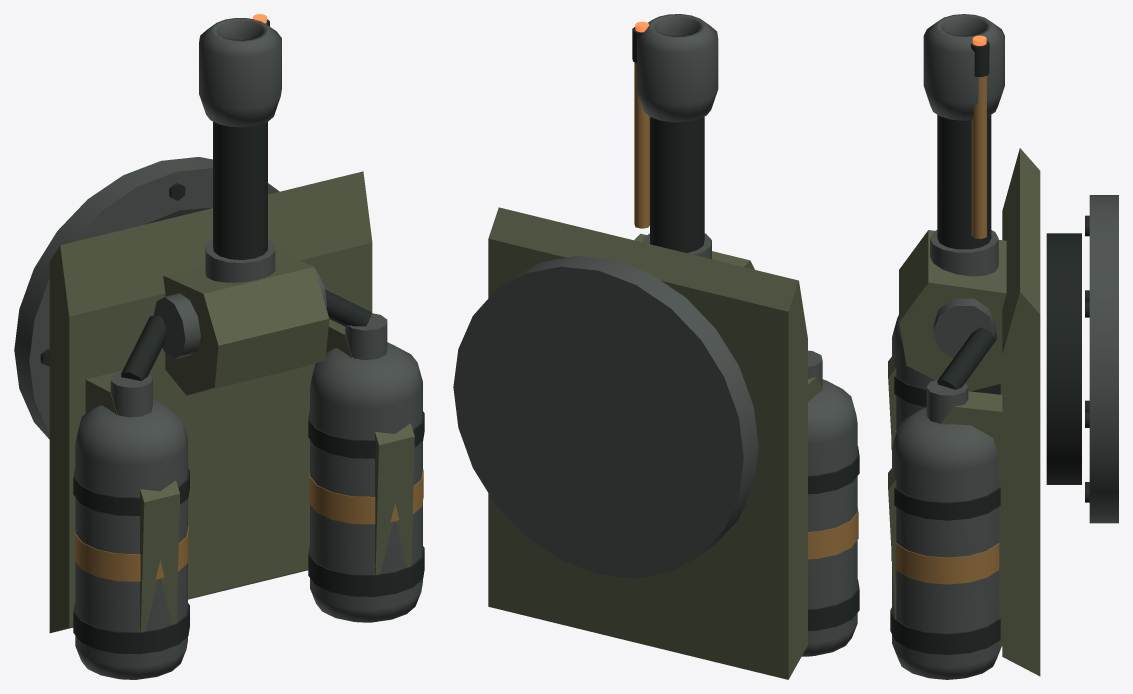
The model's file is field-flamer.glb.
3 views of the same model, side by side, from view 1: azimuth 30°, elevation 25°; view 2: azimuth 150°, elevation 25°; view 3: azimuth 270°, elevation 25° (orthographic). The views are drawn at different scales.
Visible parts, largest first — view 1: turret_yaw, equipment_pitch, field_flamer; view 2: field_flamer, turret_yaw, equipment_pitch; view 3: turret_yaw, equipment_pitch, field_flamer.
Boxes of the visible parts, box(x1,y1,x2,y2) form: turret_yaw: box(49, 171, 424, 679); equipment_pitch: box(199, 14, 281, 282); field_flamer: box(14, 157, 279, 439); field_flamer: box(453, 255, 758, 578); turret_yaw: box(488, 207, 859, 679); equipment_pitch: box(632, 14, 718, 259); turret_yaw: box(888, 148, 1081, 679); equipment_pitch: box(923, 14, 1004, 276); field_flamer: box(1085, 195, 1118, 523).
Bounding box in the file's own units: 1.03 × 1.77 × 0.63.
